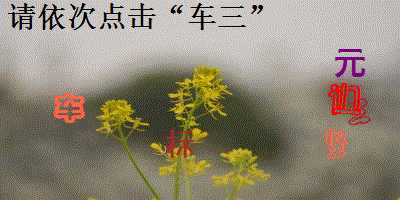result: (185, 1, 247, 32)
text: (326, 81, 363, 116), (164, 125, 198, 160), (51, 92, 87, 124), (333, 46, 367, 78), (321, 128, 348, 160), (347, 98, 372, 126)
